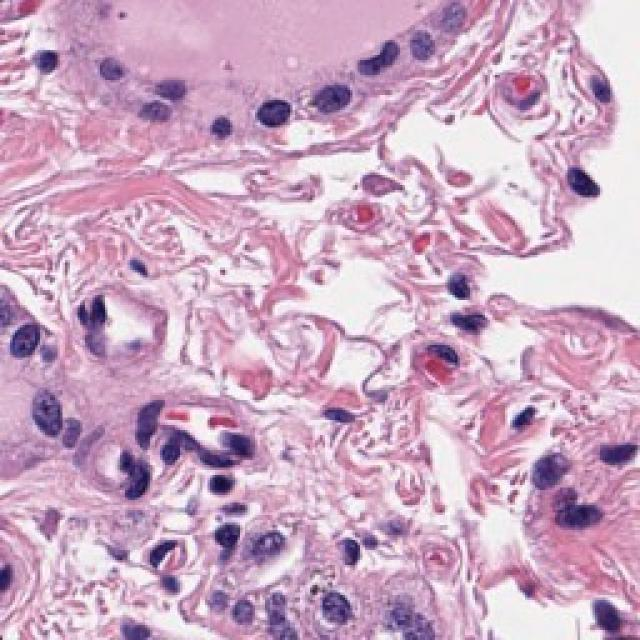abnormal: (10, 364, 96, 474), (298, 572, 394, 640), (0, 298, 60, 374)
